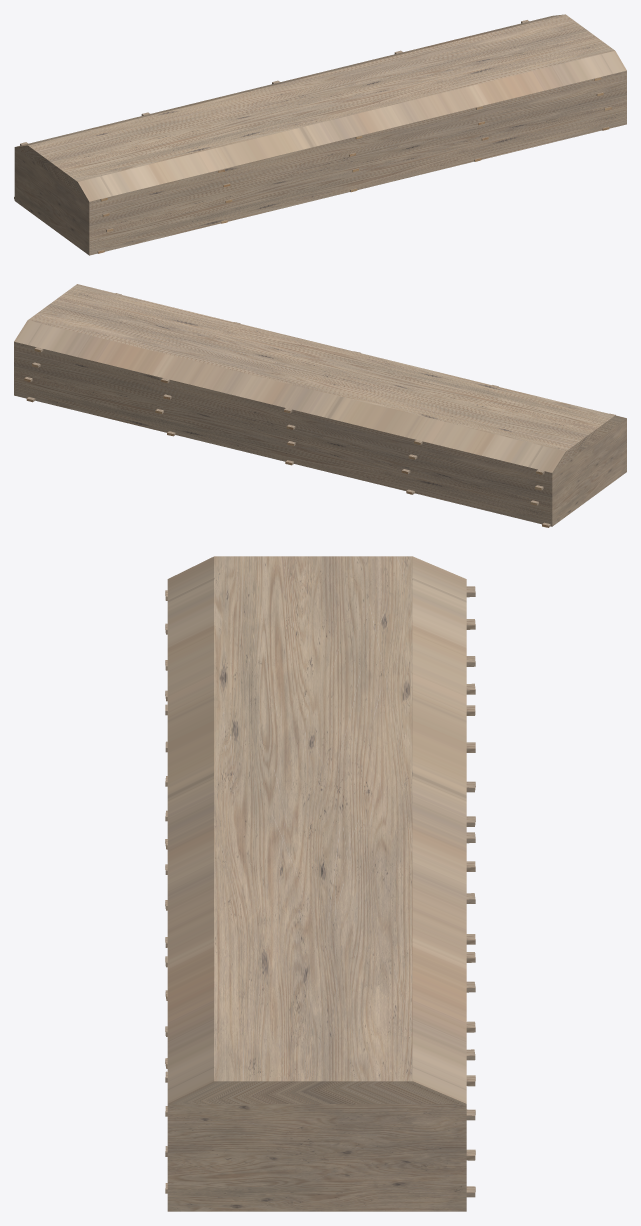
Rendered from wood_stack_c.DAE.
The picture shows the model from 3 angles, top to bottom: view 1: azimuth 30°, elevation 25°; view 2: azimuth 150°, elevation 25°; view 3: azimuth 270°, elevation 25°; orthographic projection. The views are drawn at different scales.
Parts seen in each view (by area): view 1: Colmesh-1, ind_wood_stack_c350; view 2: Colmesh-1, ind_wood_stack_c350; view 3: Colmesh-1, ind_wood_stack_c350.
Part boxes in pixels (<box>): Colmesh-1: <box>14,14,626,255</box>; ind_wood_stack_c350: <box>14,20,611,253</box>; Colmesh-1: <box>14,284,626,526</box>; ind_wood_stack_c350: <box>24,293,615,527</box>; Colmesh-1: <box>167,556,466,1211</box>; ind_wood_stack_c350: <box>165,586,475,1197</box>.
Bounding box in the file's own units: 501 × 125 × 58.1.
